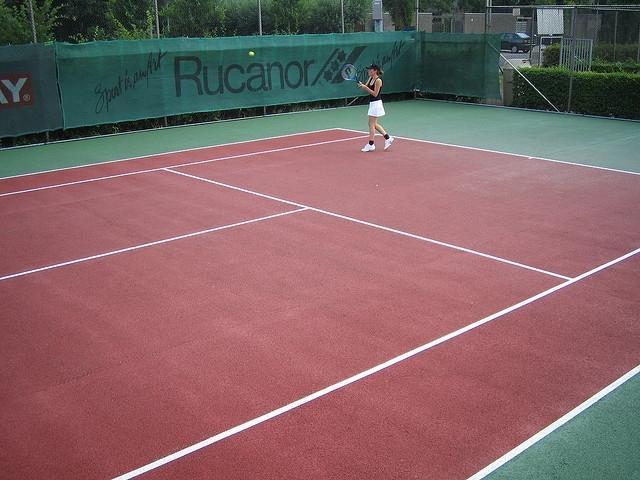car: (500, 32, 530, 53)
